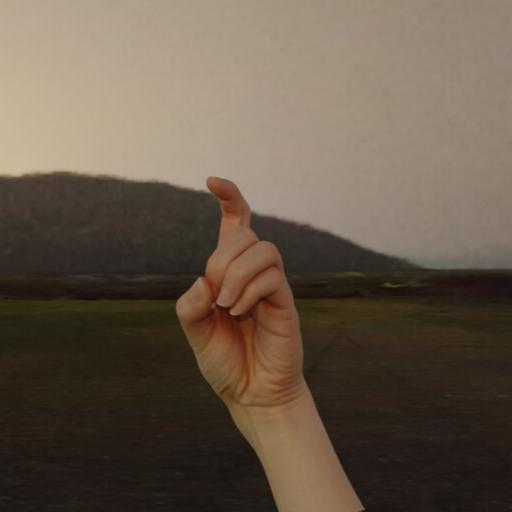X: (156, 170, 365, 512)
